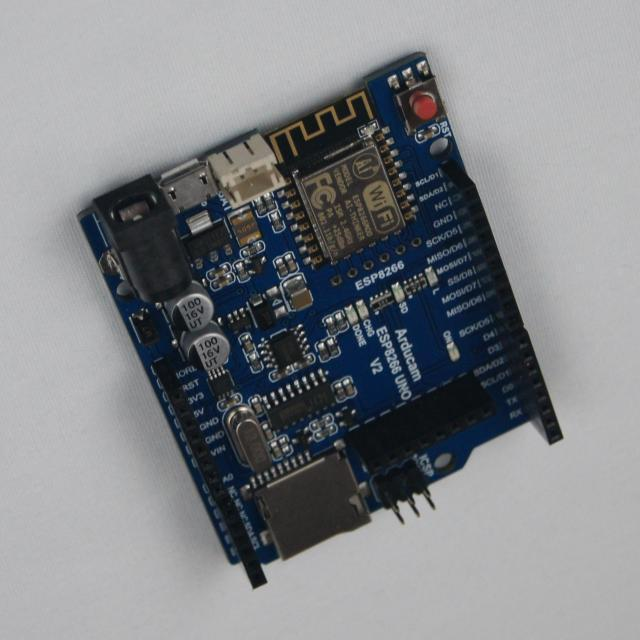Arduino Uno Camera Shield: (79, 53, 563, 588)
